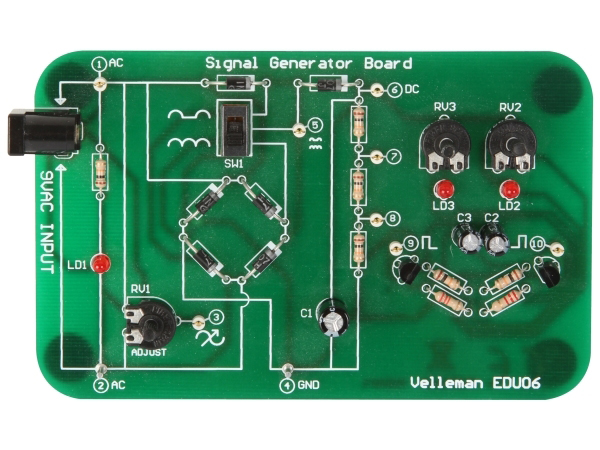Capacitor: (315, 297, 351, 339), (450, 222, 483, 256), (480, 224, 512, 258)
Diode: (191, 185, 223, 219), (189, 243, 221, 276), (248, 244, 279, 276), (249, 191, 281, 219), (221, 76, 255, 91), (314, 76, 343, 93)
LED: (434, 179, 455, 200), (90, 254, 111, 274), (500, 179, 520, 200)
Resistor: (488, 287, 523, 314), (432, 288, 466, 313), (492, 268, 524, 291), (432, 267, 462, 291), (352, 232, 367, 267), (94, 158, 109, 191), (352, 106, 366, 140), (352, 170, 366, 203)
